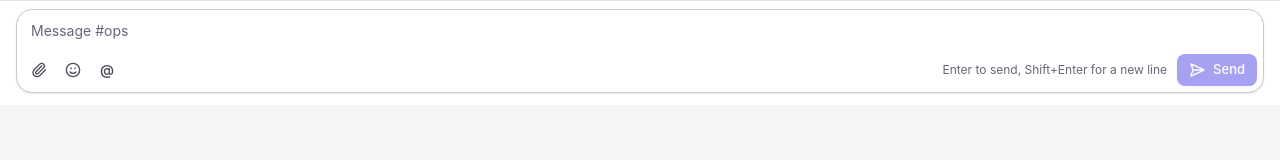
Test: TeamComposer › navigates suggestions with the arrow keys and Enter picks instead of sending
The image size is (1280, 160).
Type "@" into the text box labelled "Message #ops" at x=640, y=32, box [17,10,1263,54]
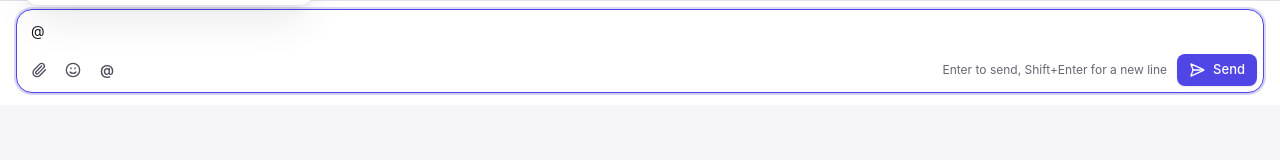
Press Arrowdown Arrowdown Enter
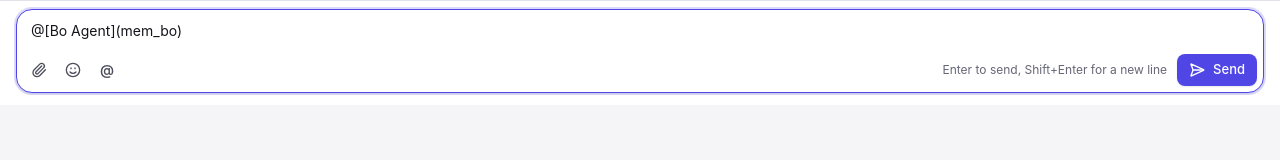
Result: the text box named "Message #ops" holds "@[Bo Agent](mem_bo) " at [17,10,1263,54]
